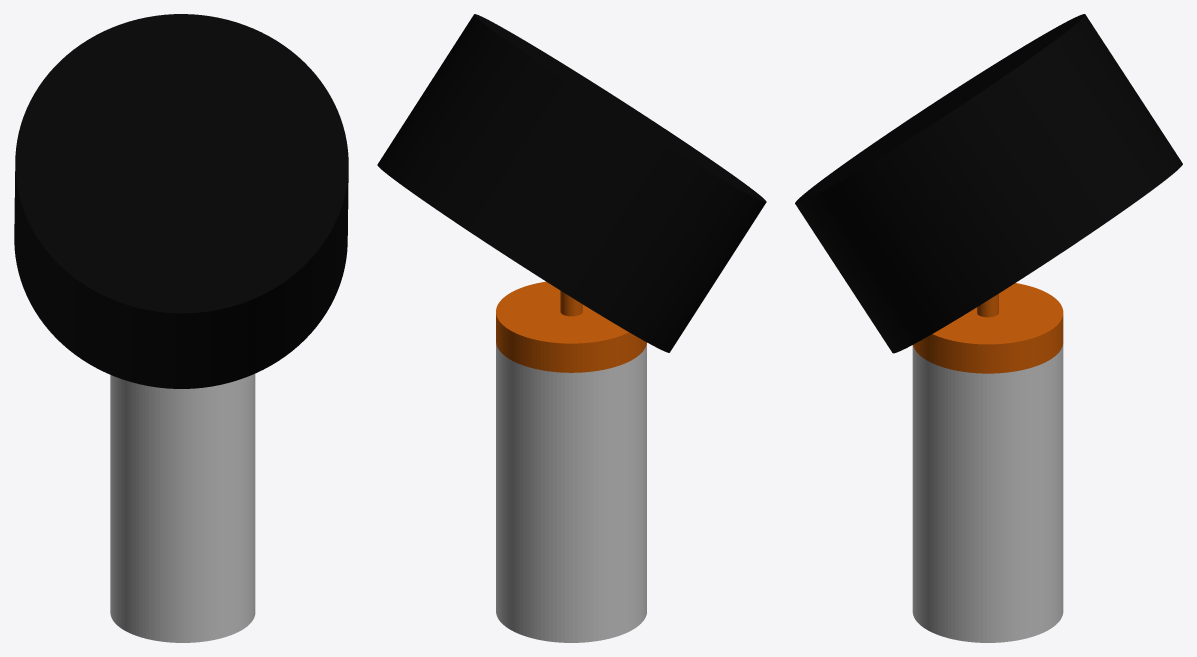
File: lamp16.obj
3 renders of one model, left to right at view 1: azimuth 30°, elevation 25°; view 2: azimuth 150°, elevation 25°; view 3: azimuth 270°, elevation 25°, orthographic. The views are drawn at different scales.
Visible parts, largest first — view 1: Cylinder.002, Cylinder; view 2: Cylinder.002, Cylinder, Cylinder.001; view 3: Cylinder.002, Cylinder, Cylinder.001.
Part boxes in pixels (x1,y1,x2,y2): Cylinder.002: [14, 14, 348, 388]; Cylinder: [110, 374, 255, 642]; Cylinder.002: [377, 14, 766, 352]; Cylinder: [496, 343, 646, 642]; Cylinder.001: [496, 281, 646, 372]; Cylinder.002: [795, 14, 1182, 353]; Cylinder: [912, 344, 1063, 642]; Cylinder.001: [913, 283, 1063, 373].
Size of what is drawn, in the model's own units: 5.11 by 8.62 by 5.15.
